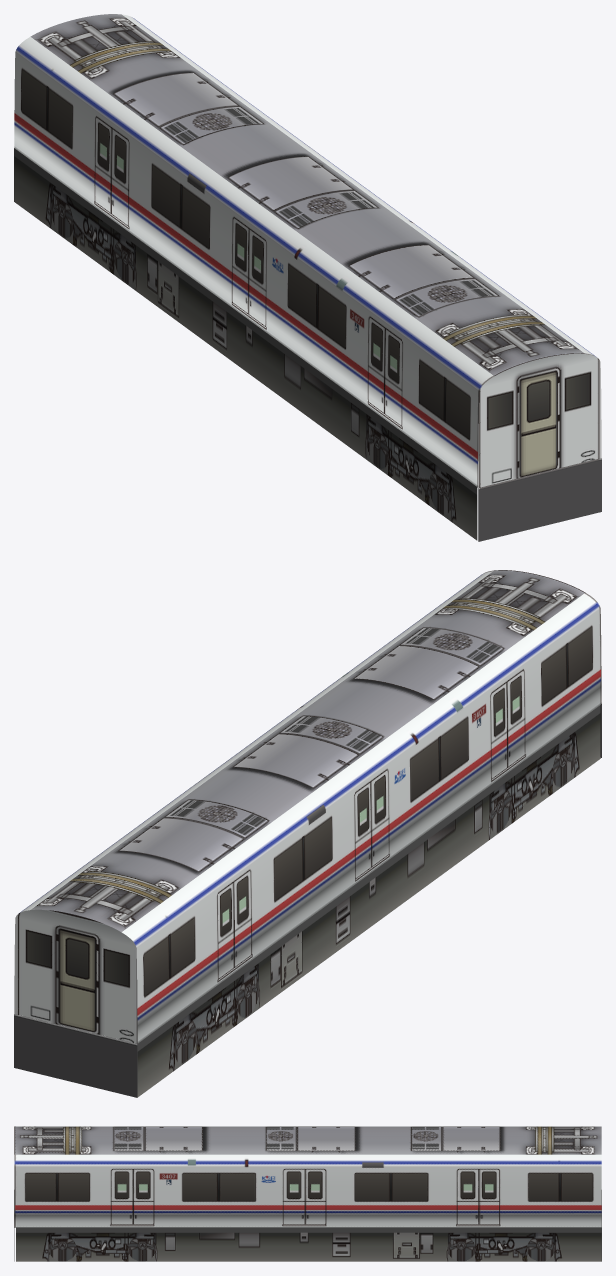
Rendered from car2.glb.
3 renders of one model, top to bottom at view 1: azimuth 30°, elevation 25°; view 2: azimuth 150°, elevation 25°; view 3: azimuth 270°, elevation 25°, orthographic. The views are drawn at different scales.
Visible parts, largest first — view 1: keisei-3400-car2; view 2: keisei-3400-car2; view 3: keisei-3400-car2.
Boxes of the visible parts, box(x1,y1,x2,y2) form: keisei-3400-car2: box(14, 14, 601, 541); keisei-3400-car2: box(14, 570, 601, 1097); keisei-3400-car2: box(14, 1126, 601, 1261).
Bounding box in the file's own units: 2.76 × 3.59 × 18.03.
Materials: 9 (8 with a texture image).
